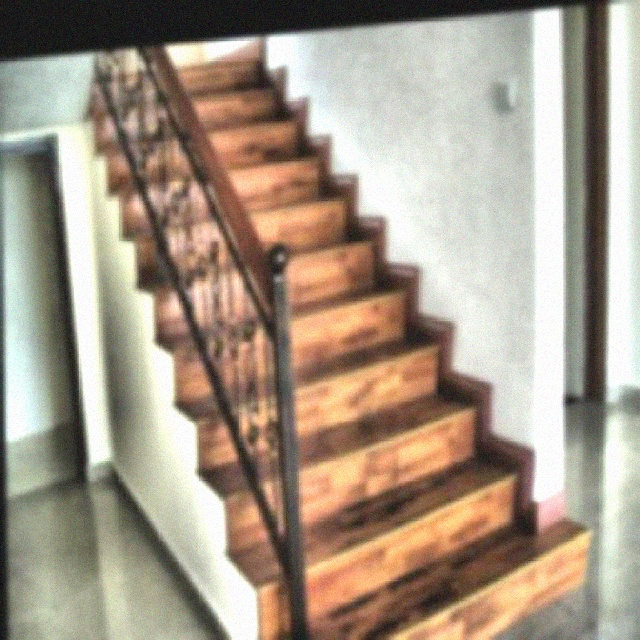stair: (135, 17, 600, 638)
